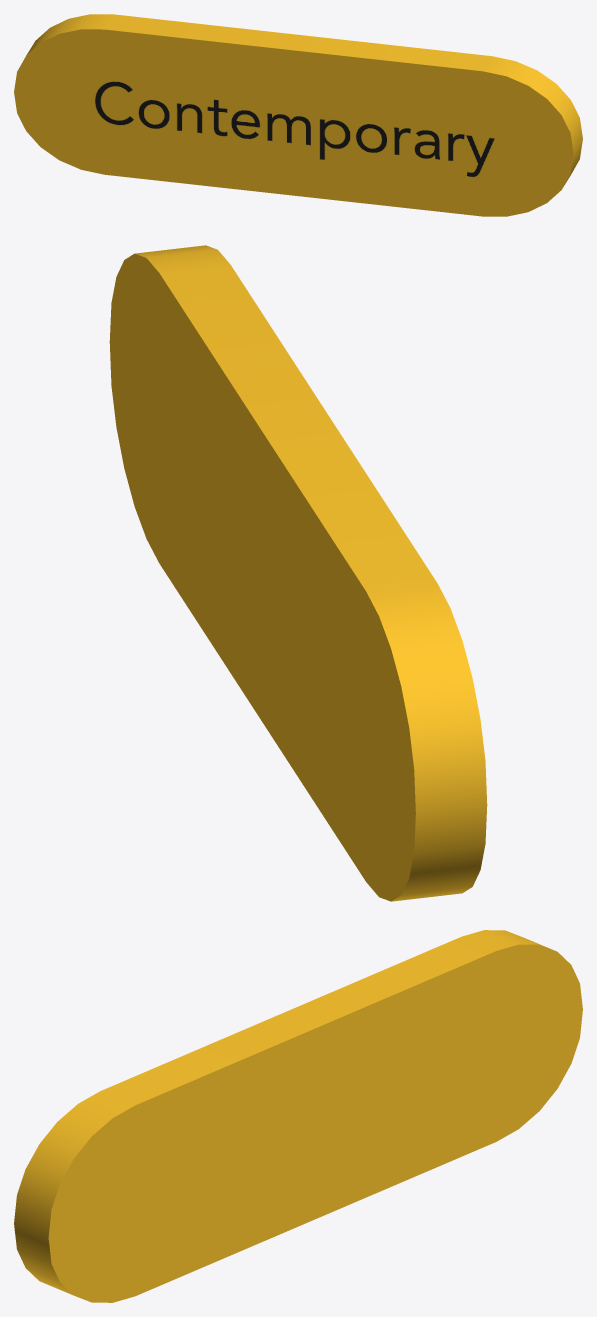
The model's file is 1989_contemporary_elevation_selection.gltf.
The picture shows the model from 3 angles, top to bottom: view 1: azimuth 30°, elevation 25°; view 2: azimuth 150°, elevation 25°; view 3: azimuth 270°, elevation 25°; orthographic projection. The views are drawn at different scales.
Visible parts, largest first — view 1: Contemporary.002; view 2: Contemporary.002; view 3: Contemporary.002.
Part boxes in pixels (<box>): Contemporary.002: <box>14,14,582,216</box>; Contemporary.002: <box>109,245,487,901</box>; Contemporary.002: <box>14,930,582,1302</box>.
Size of the model in its own units: 0.5329 by 0.1952 by 0.5273.
1 material, 1 textured.
